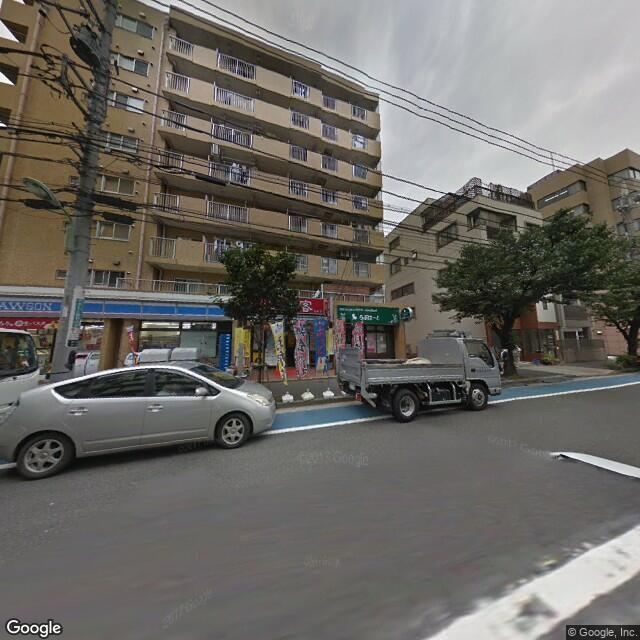lawson: (1, 292, 225, 323)
